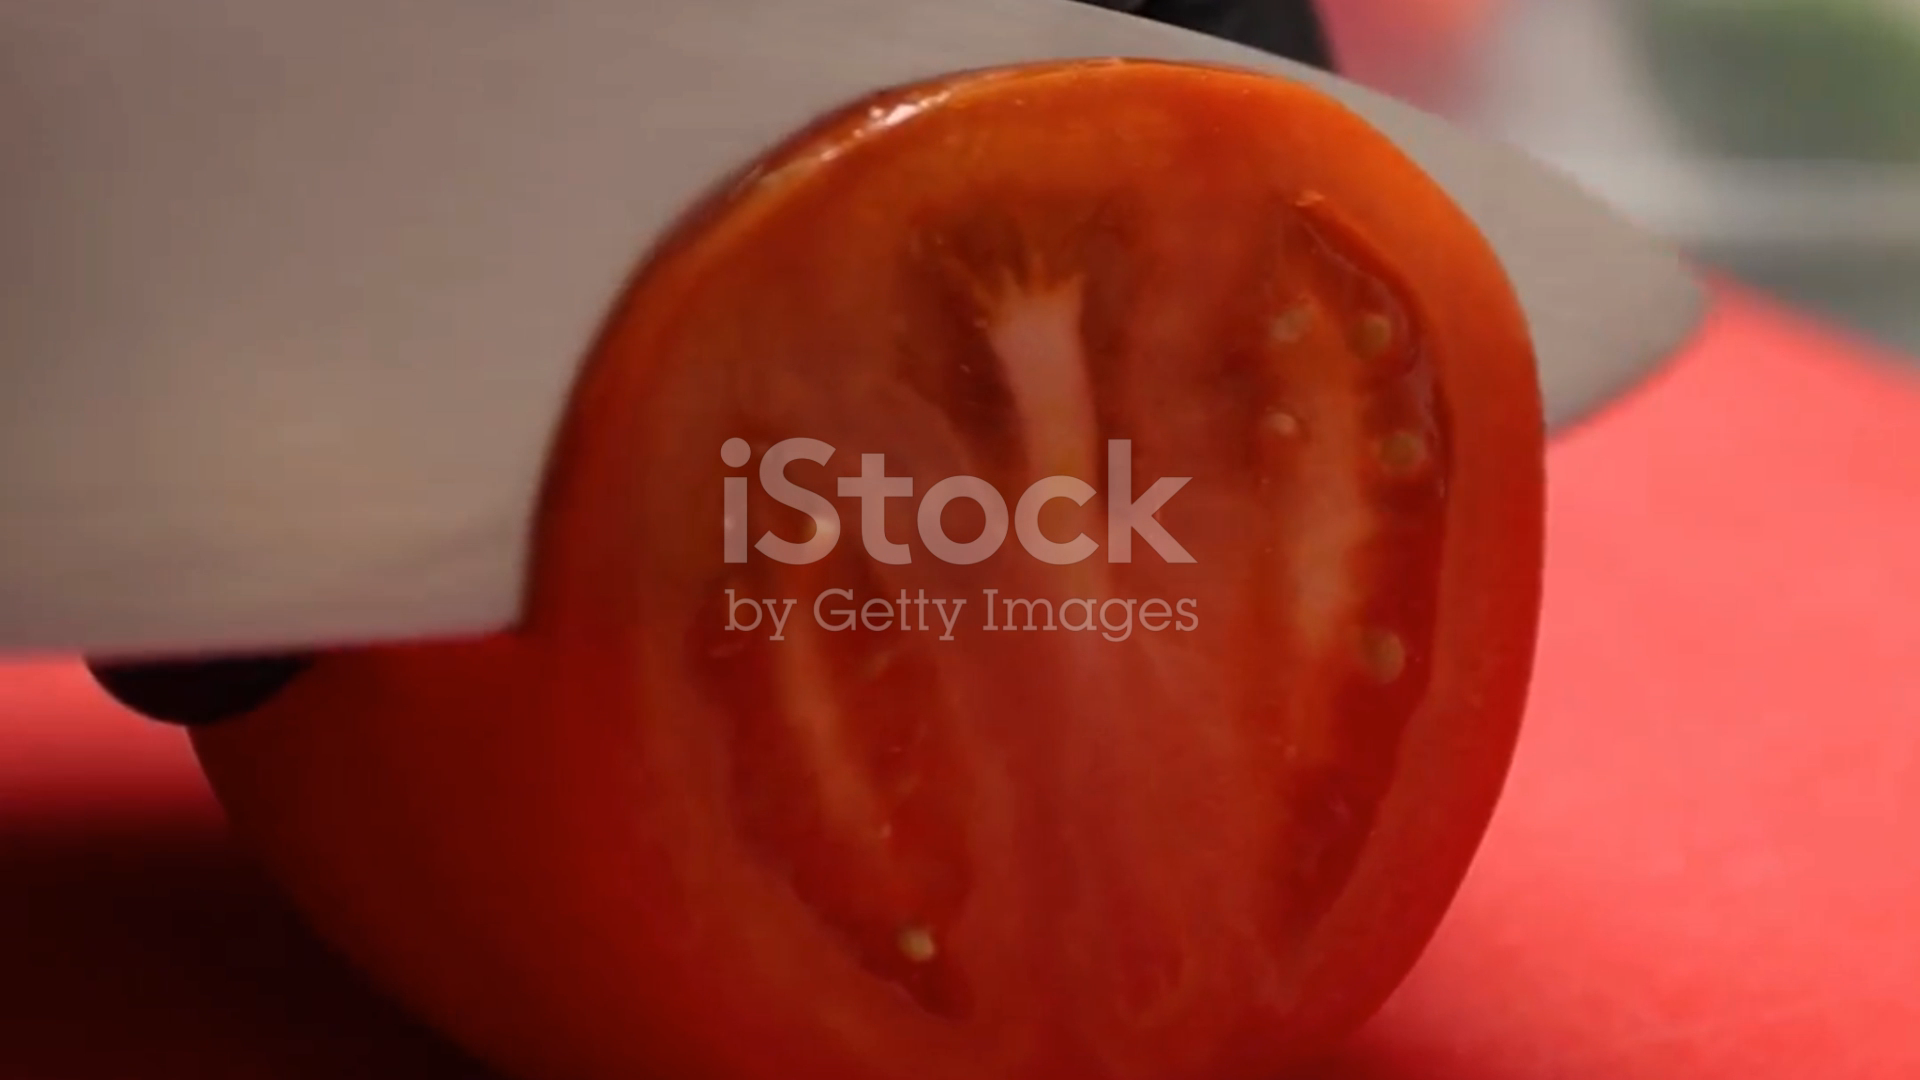cortante: (0, 0, 1726, 663)
